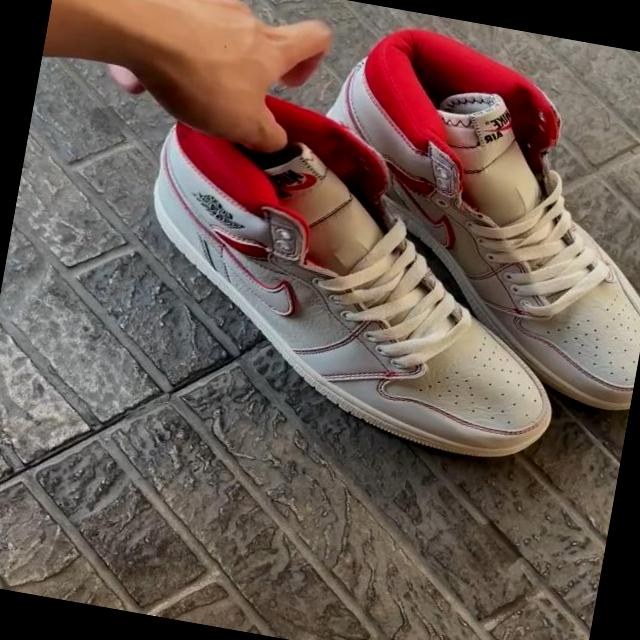nike_fake_jordan: (104, 106, 606, 472), (286, 13, 640, 410)
